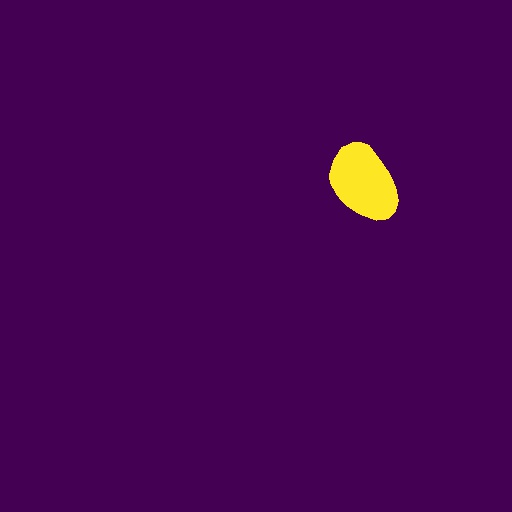Gliomia_tumour: (329, 142, 399, 221)
